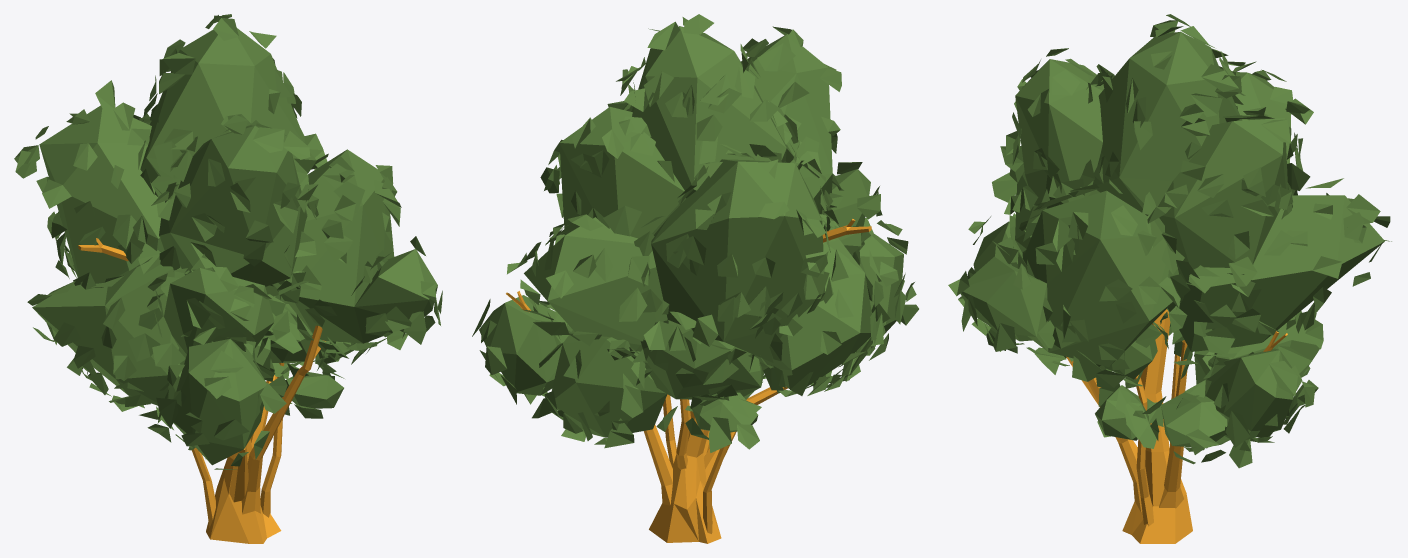
The model's file is SM_Tree_Hazel_Mature_A.fbx.
3 renders of one model, left to right at view 1: azimuth 30°, elevation 25°; view 2: azimuth 150°, elevation 25°; view 3: azimuth 270°, elevation 25°, orthographic. The views are drawn at different scales.
Parts seen in each view (by area): view 1: tree-hazel-mature-a; view 2: tree-hazel-mature-a; view 3: tree-hazel-mature-a.
Part boxes in pixels (x1,y1,x2,y2): tree-hazel-mature-a: [14, 14, 442, 543]; tree-hazel-mature-a: [472, 14, 918, 543]; tree-hazel-mature-a: [948, 14, 1391, 543].
Bounding box in the file's own units: 4.84 × 6.65 × 5.3.
